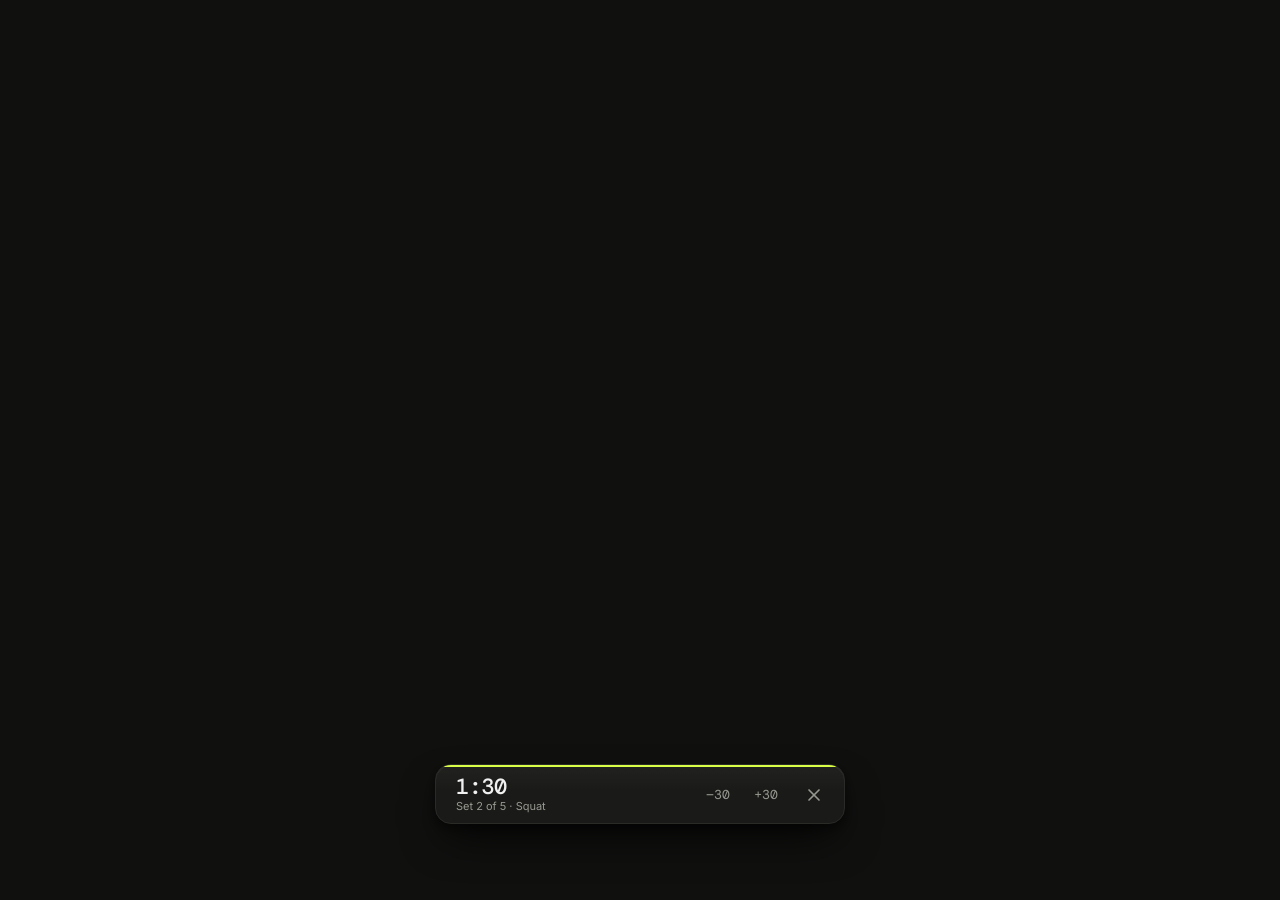
Test: the focus view › closes on Escape and with the chevron
Click the button with aria-label "Open large timer".
click(574, 795)  # box [456,775,692,815]
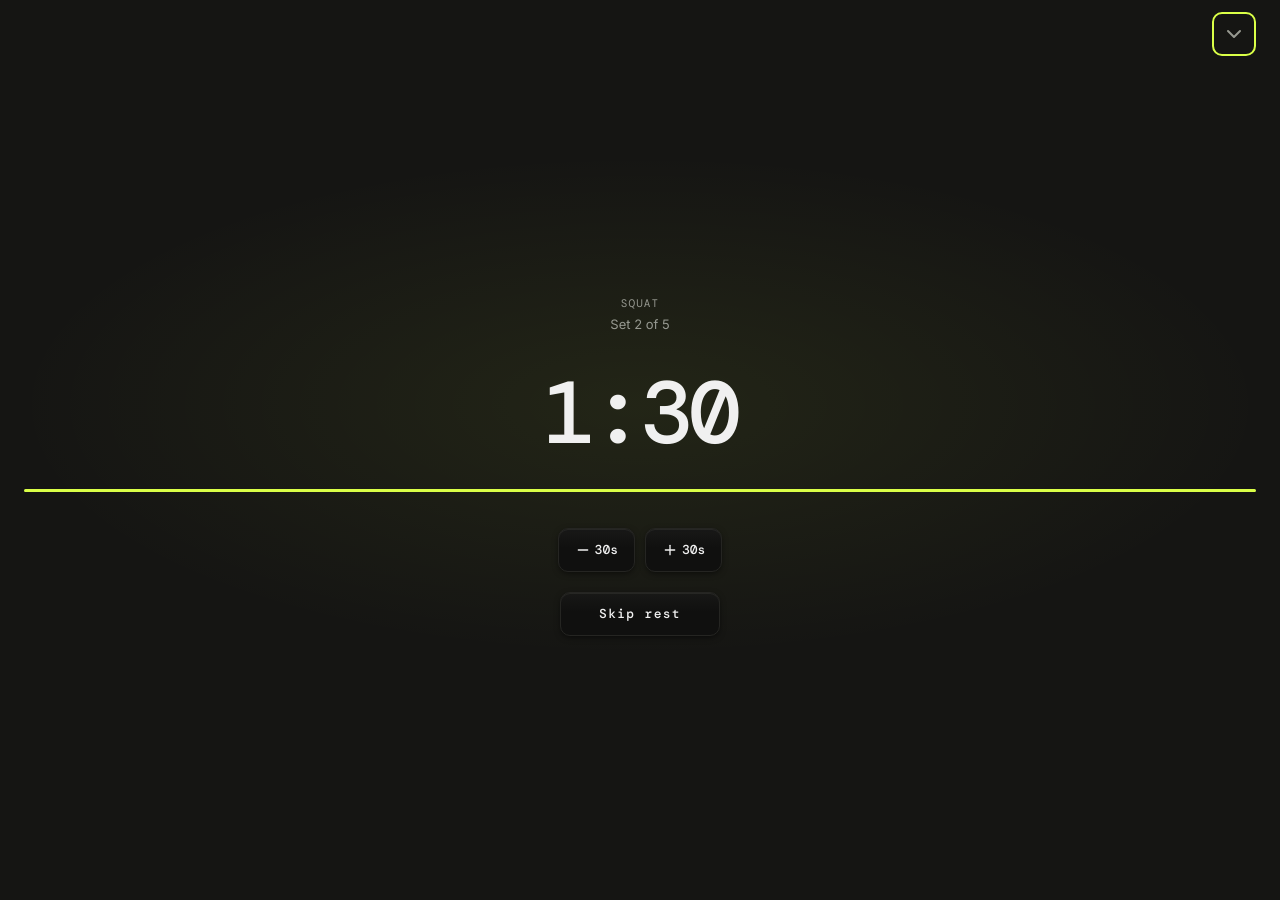
Press Escape
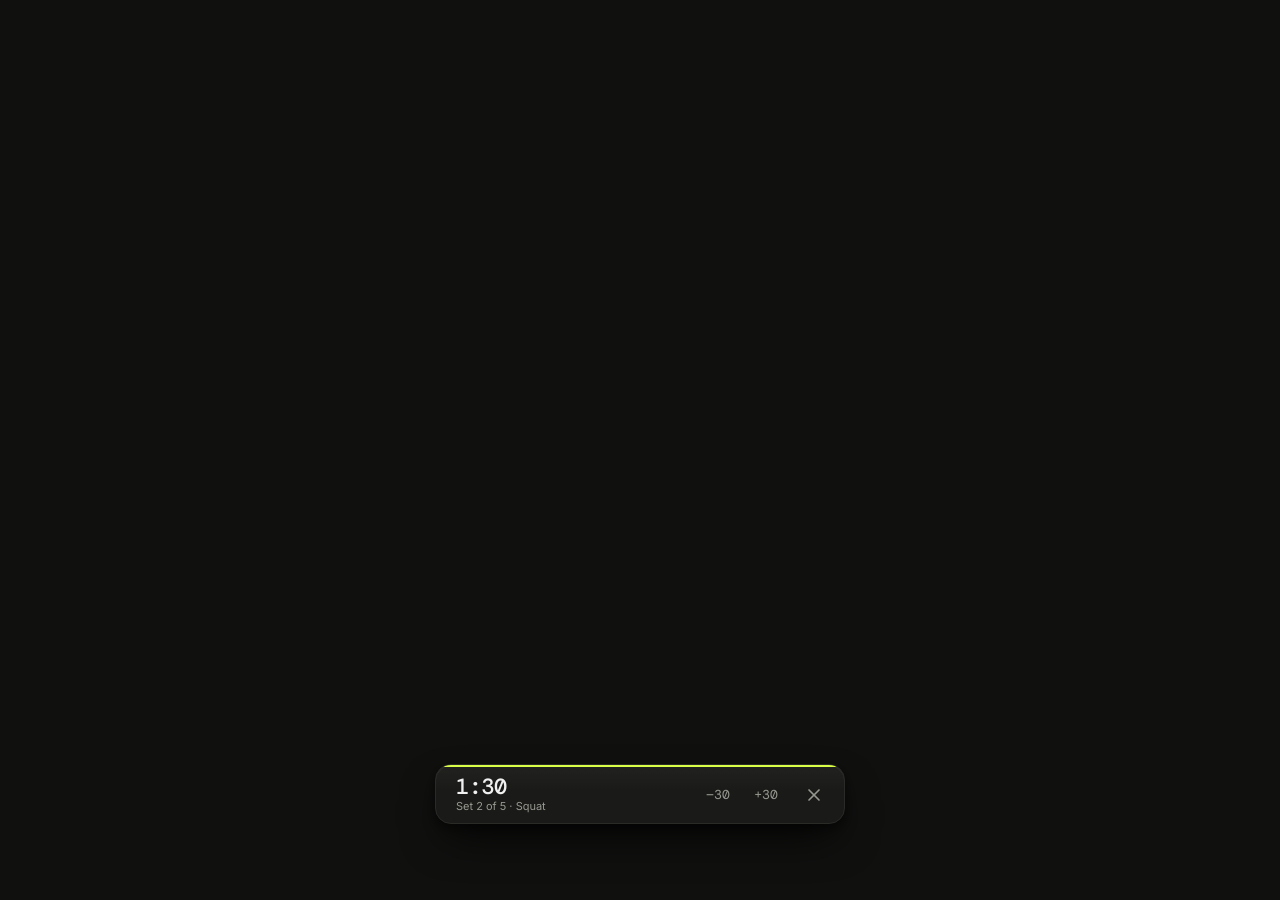
Result: the dialog is gone
Click the button with aria-label "Open large timer".
click(574, 795)  # box [456,775,692,815]
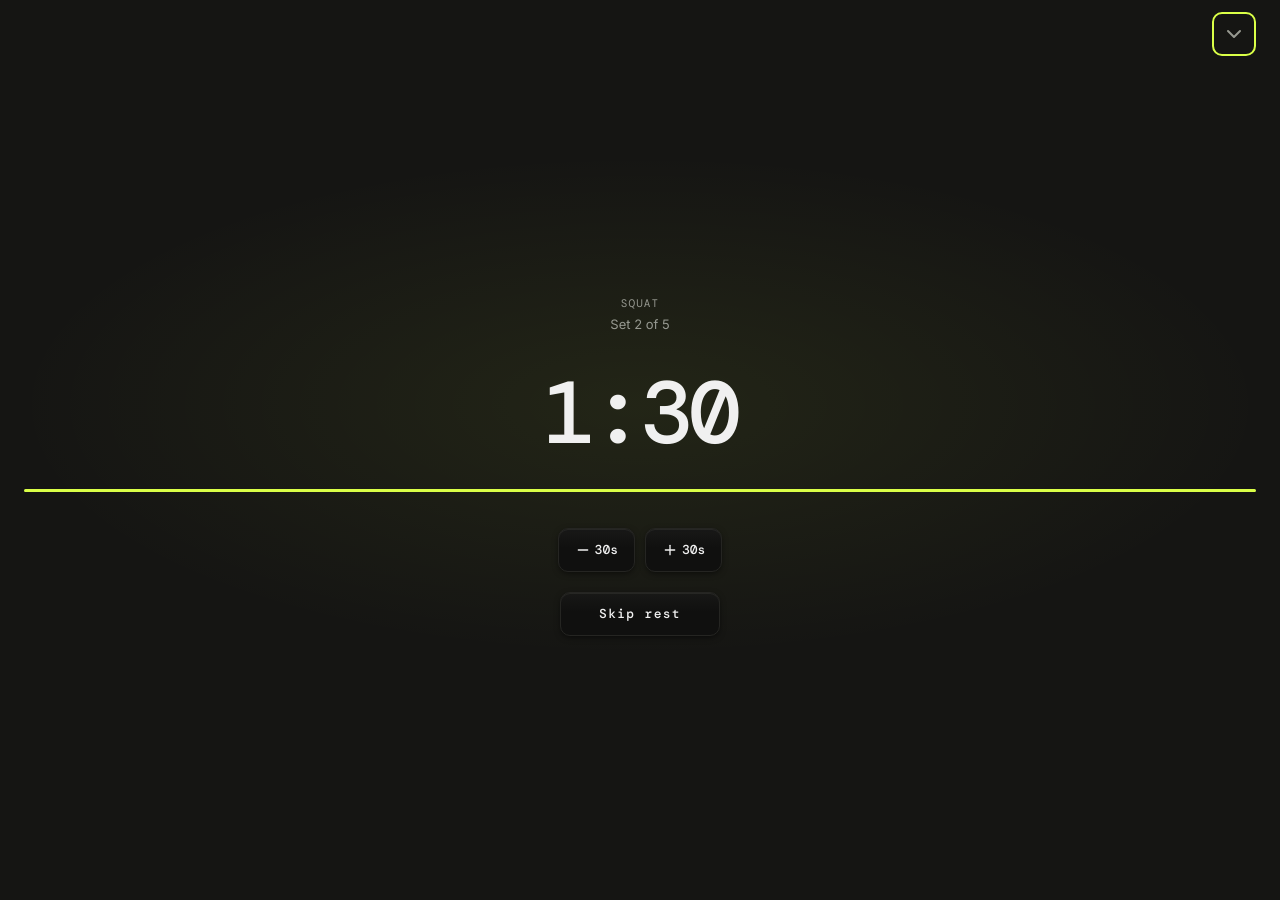
Click the button named "Minimise timer".
click(1234, 34)  # box [1212,12,1256,56]
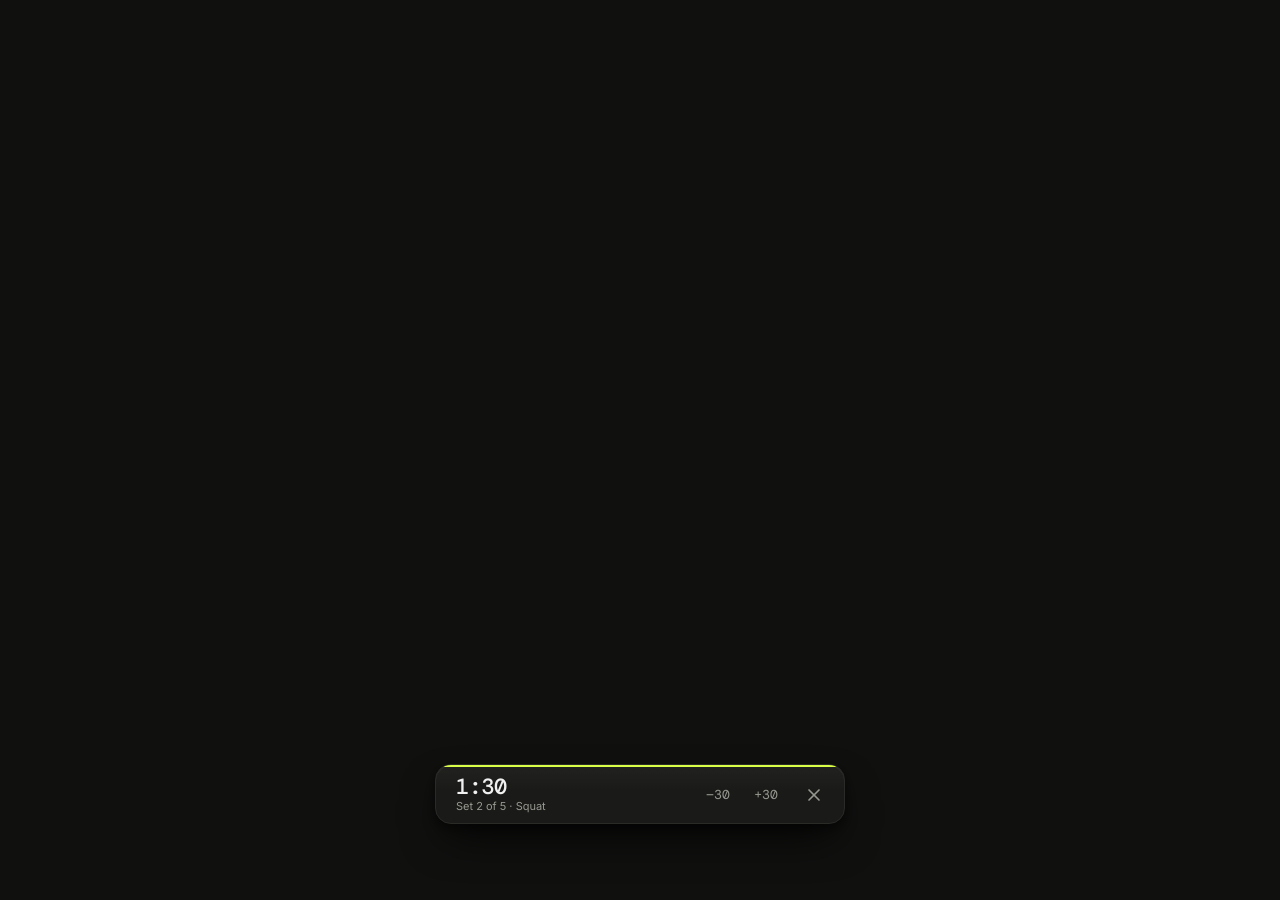
Result: the dialog is gone
